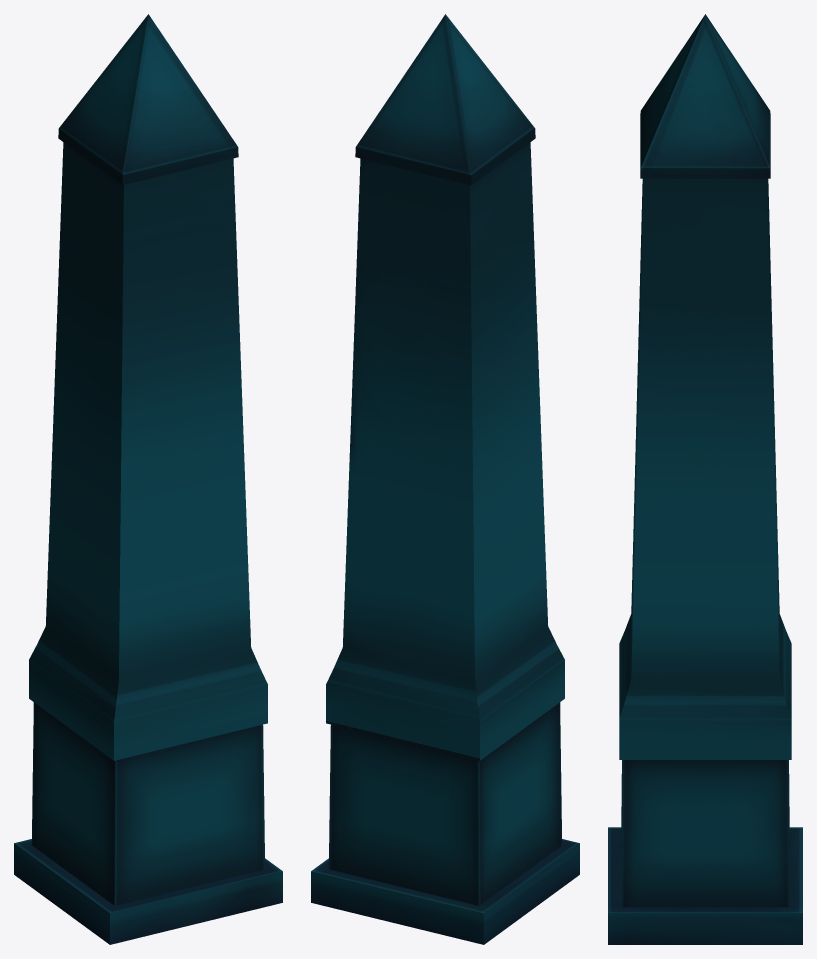
The model's file is pillar01.FBX.
The picture shows the model from 3 angles, left to right: view 1: azimuth 30°, elevation 25°; view 2: azimuth 150°, elevation 25°; view 3: azimuth 270°, elevation 25°; orthographic projection.
Visible parts, largest first — view 1: pillar01; view 2: pillar01; view 3: pillar01.
Boxes of the visible parts, left/top/right/bottom form: pillar01: left=14, top=14, right=282, bottom=944; pillar01: left=311, top=14, right=579, bottom=944; pillar01: left=608, top=14, right=802, bottom=944.
Bounding box in the file's own units: 11.3 × 54.59 × 10.86.
